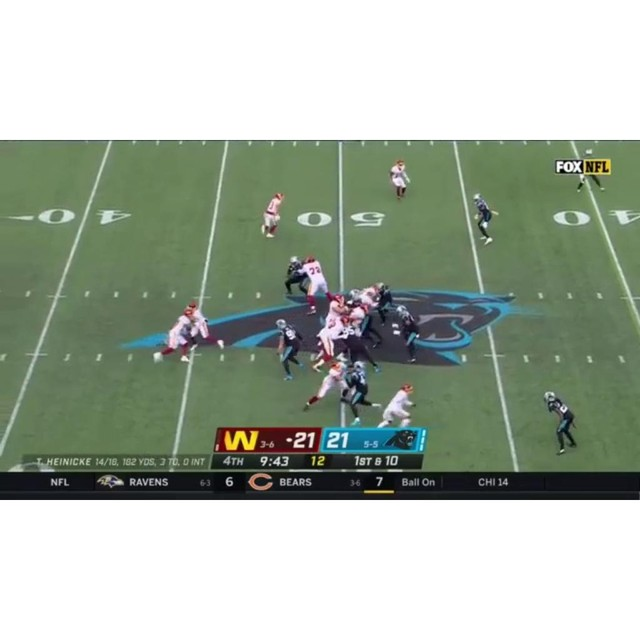american-football-player: (302, 360, 349, 412), (153, 308, 196, 364), (343, 363, 380, 426), (312, 313, 351, 372), (333, 328, 382, 373), (544, 391, 577, 455), (187, 302, 224, 354), (274, 318, 304, 381), (377, 382, 416, 428), (302, 255, 332, 314), (394, 304, 421, 364), (472, 194, 496, 246), (261, 192, 285, 239), (284, 255, 307, 297), (389, 158, 410, 201), (323, 292, 347, 326)
